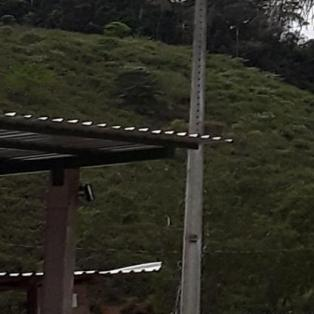Poste: (163, 0, 220, 314)
